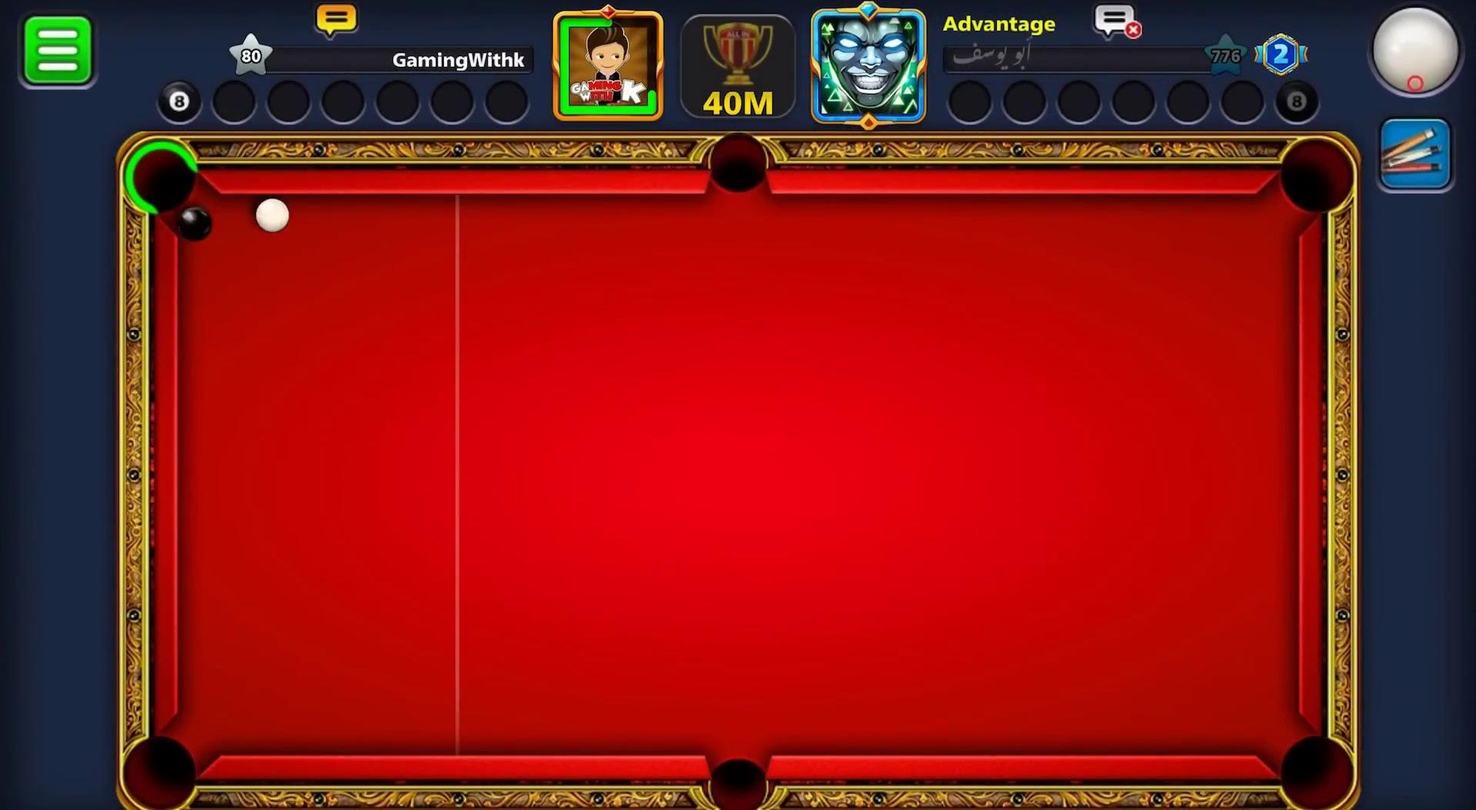Ball: (168, 202, 219, 247)
Hole: (1267, 121, 1362, 232), (115, 125, 207, 230), (1278, 734, 1356, 809), (122, 733, 198, 808), (706, 130, 770, 197), (705, 755, 770, 809)
Play_Area: (177, 193, 1296, 759)
Spin: (1361, 0, 1475, 111)
White: (251, 195, 297, 238)
